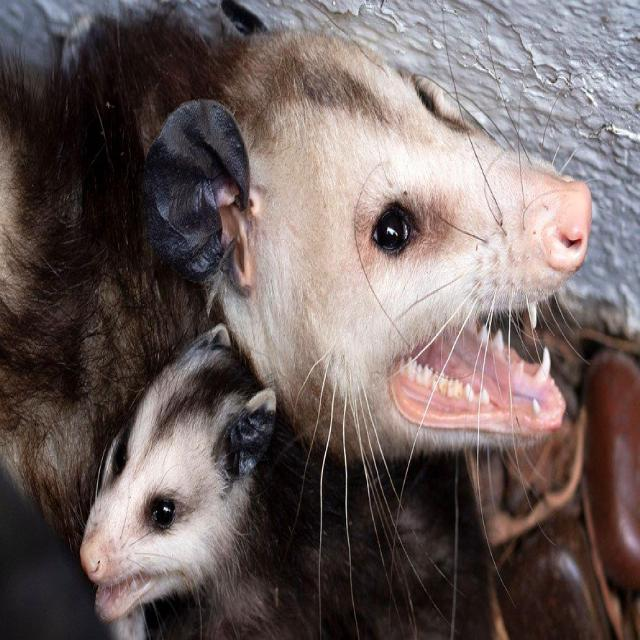possum: (0, 10, 590, 542), (80, 324, 490, 639)
